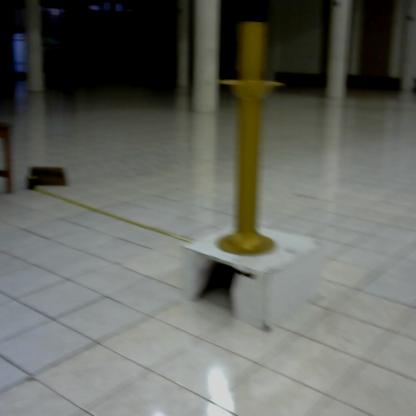pole: (210, 13, 289, 262)
